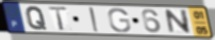6: (140, 8, 163, 34)
G: (107, 8, 133, 34)
I: (87, 7, 101, 33)
N: (164, 9, 193, 35)
Q: (25, 5, 48, 31)
T: (47, 5, 69, 32)
